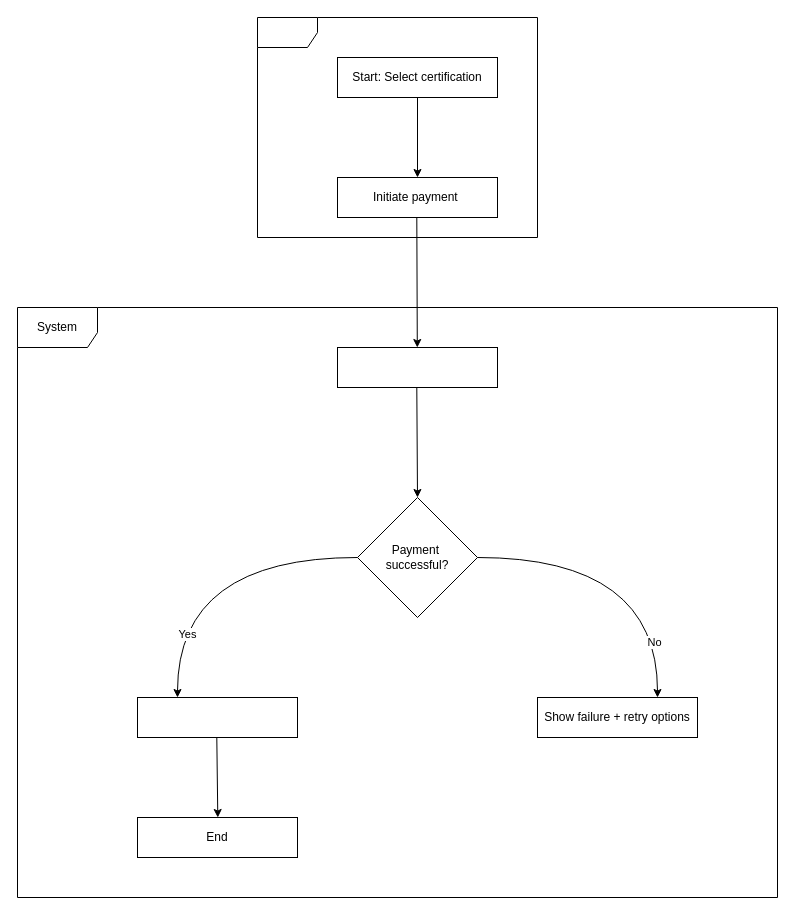
Some shapes in this 795 by 915 pixel diagram are drawn without their labels. The shapes that lost their labels are listed below. From the top down, each one's centre as x and y in pixels, then its label:
point 397,127: Student
point 417,367: Call paymnet gateway
point 217,717: Issue certification + notify
